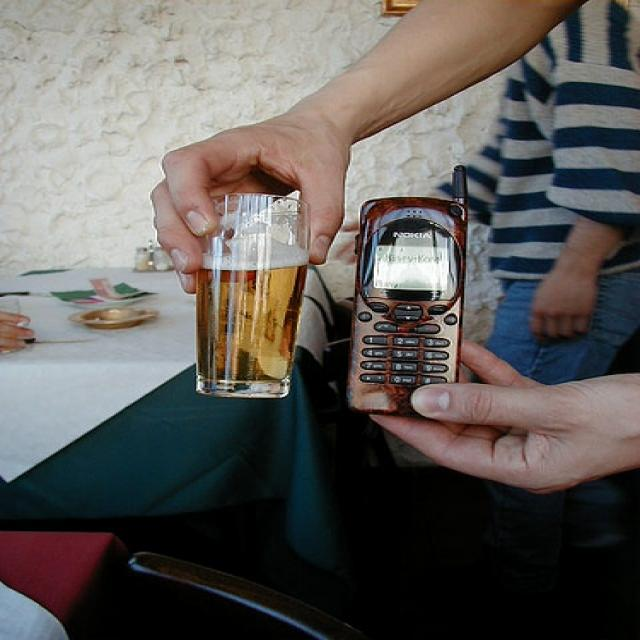chair: (122, 547, 351, 627)
dining table: (0, 264, 244, 533)
